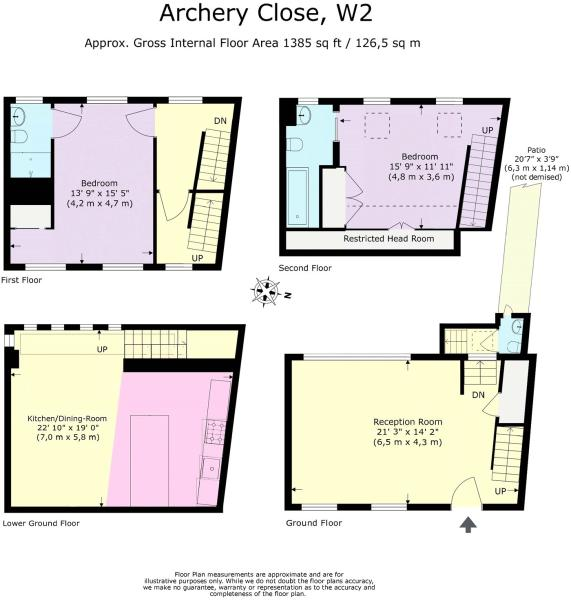GardenMeasurements: (502, 142, 571, 183)
GrossArea: (82, 36, 421, 51)
